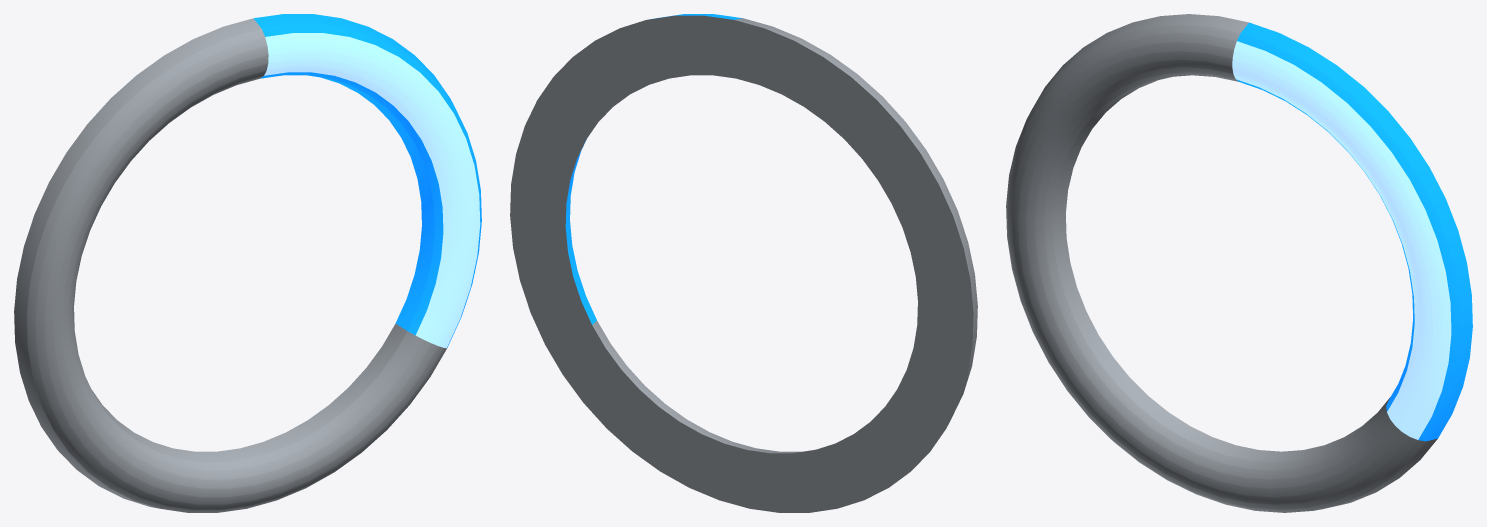
Rendered from loading-spinner-ring-74fd8c.glb.
3 views of the same model, side by side, from view 1: azimuth 30°, elevation 25°; view 2: azimuth 150°, elevation 25°; view 3: azimuth 330°, elevation 25° (orthographic).
Visible parts, largest first — view 1: loading-spinner-ring-body, loading-spinner-ring-glow-core, loading-spinner-ring-glow-flank; view 2: loading-spinner-ring-body, loading-spinner-ring-glow-flank; view 3: loading-spinner-ring-body, loading-spinner-ring-glow-core, loading-spinner-ring-glow-flank.
Part boxes in pixels (x1=…): loading-spinner-ring-body: x1=14, y1=18, x2=446, y2=512; loading-spinner-ring-glow-core: x1=264, y1=33, x2=480, y2=348; loading-spinner-ring-glow-flank: x1=254, y1=14, x2=481, y2=347; loading-spinner-ring-body: x1=510, y1=15, x2=977, y2=512; loading-spinner-ring-glow-flank: x1=565, y1=14, x2=742, y2=324; loading-spinner-ring-body: x1=1006, y1=14, x2=1437, y2=512; loading-spinner-ring-glow-core: x1=1232, y1=41, x2=1451, y2=439; loading-spinner-ring-glow-flank: x1=1236, y1=22, x2=1472, y2=441.
Bounding box in the file's own units: 0.05 × 0.05 × 0.00297.
